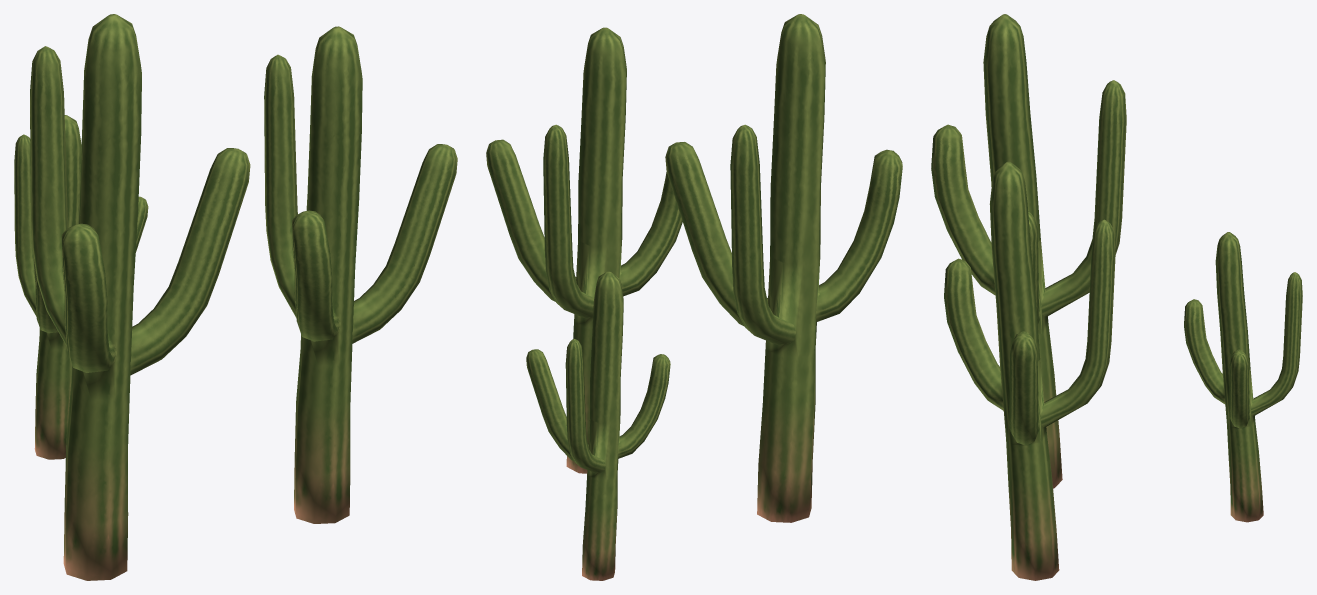
Rendered from cactus.fbx.
3 views of the same model, side by side, from view 1: azimuth 30°, elevation 25°; view 2: azimuth 150°, elevation 25°; view 3: azimuth 270°, elevation 25° (orthographic). The views are drawn at different scales.
Parts seen in each view (by area): view 1: cactus; view 2: cactus; view 3: cactus.
Part boxes in pixels (left/top/right/bottom): cactus: left=14, top=14, right=457, bottom=580; cactus: left=486, top=14, right=902, bottom=580; cactus: left=931, top=14, right=1302, bottom=580.
Size of the model in its own units: 334 by 412 by 299.
1 material, 1 textured.
